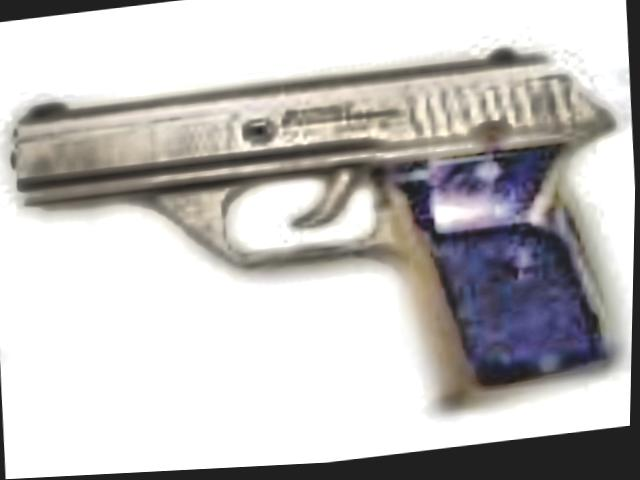pistol: (0, 34, 628, 460)
